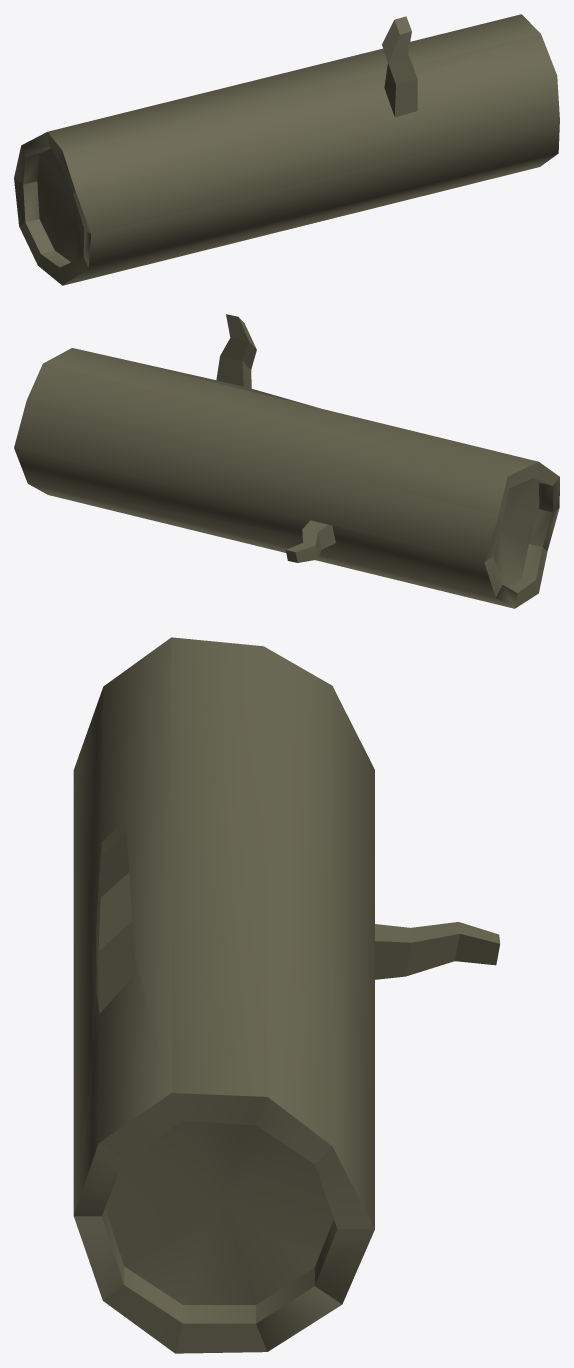
The model's file is Branch1.fbx.
3 renders of one model, top to bottom at view 1: azimuth 30°, elevation 25°; view 2: azimuth 150°, elevation 25°; view 3: azimuth 270°, elevation 25°, orthographic. The views are drawn at different scales.
Parts seen in each view (by area): view 1: Branch1; view 2: Branch1; view 3: Branch1.
Boxes of the visible parts, bbox=[...] form: Branch1: bbox=[14, 14, 559, 285]; Branch1: bbox=[14, 314, 559, 608]; Branch1: bbox=[73, 637, 500, 1353].
Size of the model in its own units: 3.85 by 1.48 by 1.49.
